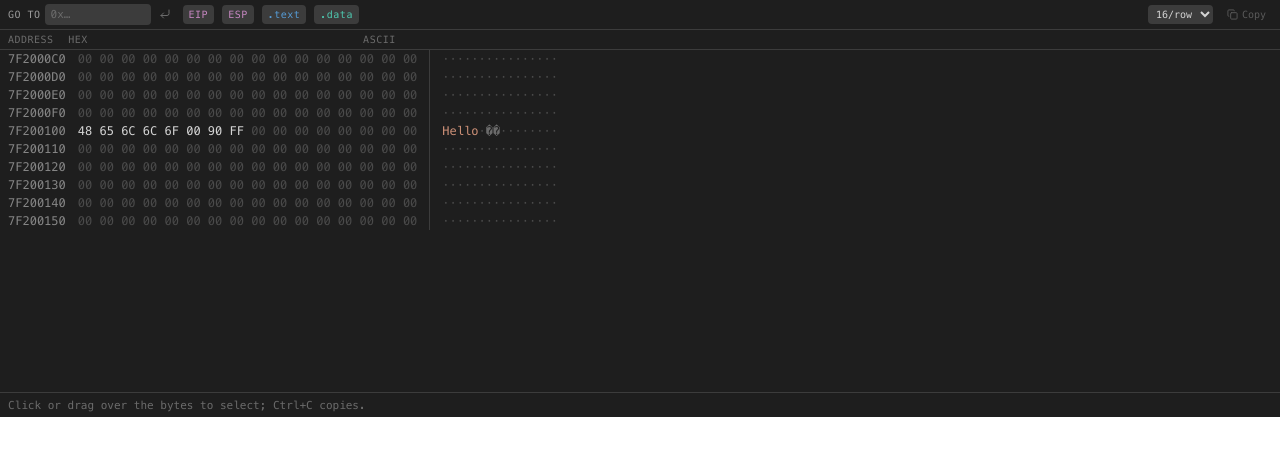
Test: atalhos de navegação › .data leva ao primeiro byte de dados e o seleciona
Click the button ".data" at coordinates (337, 14), box [314,5,359,24]
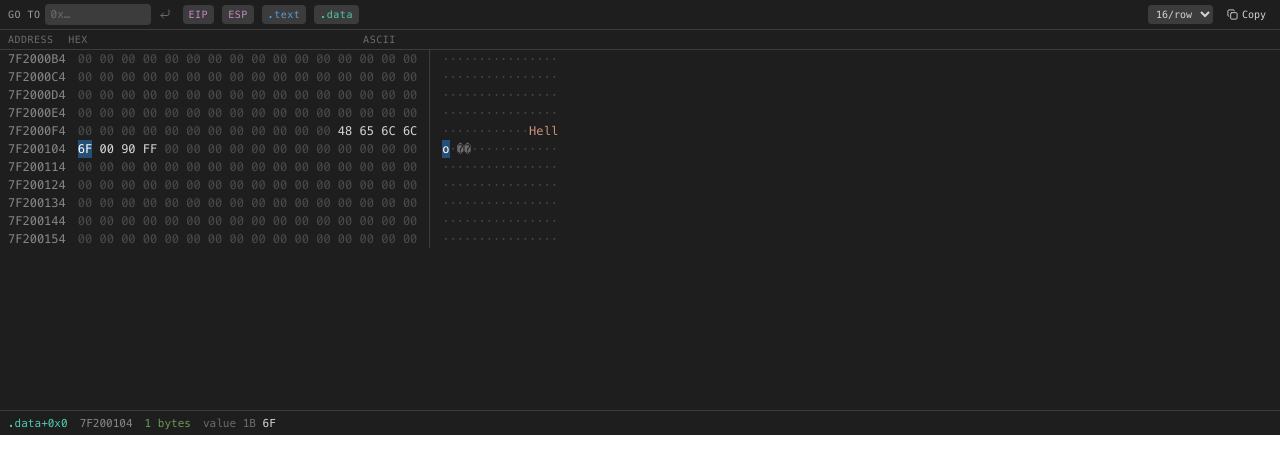
Expected: the footer shows "7F200104", [80,416,133,430]
Expected: the footer shows ".data+0x0", [0,410,1279,435]
